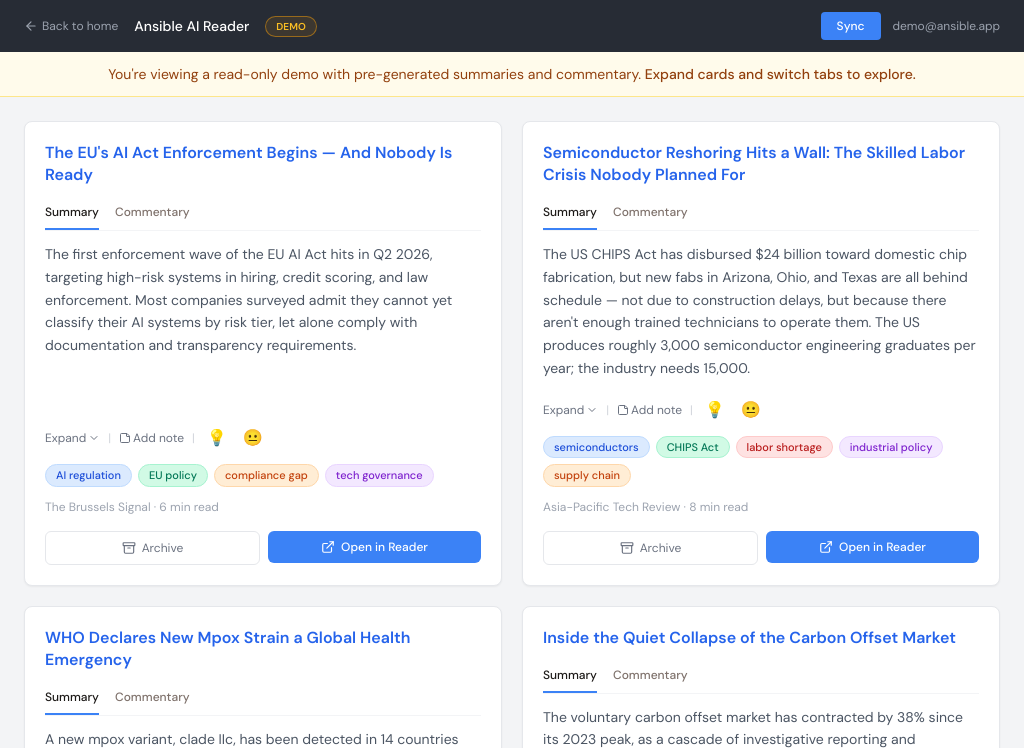
Test case: DemoPage › Article interactions › tracks tab switches, collapses on switch, and shows the commentary teaser
The width and height of the screenshot is (1024, 748).
Click the 2nd button "Expand" at [73, 438], box [45,430,100,446]
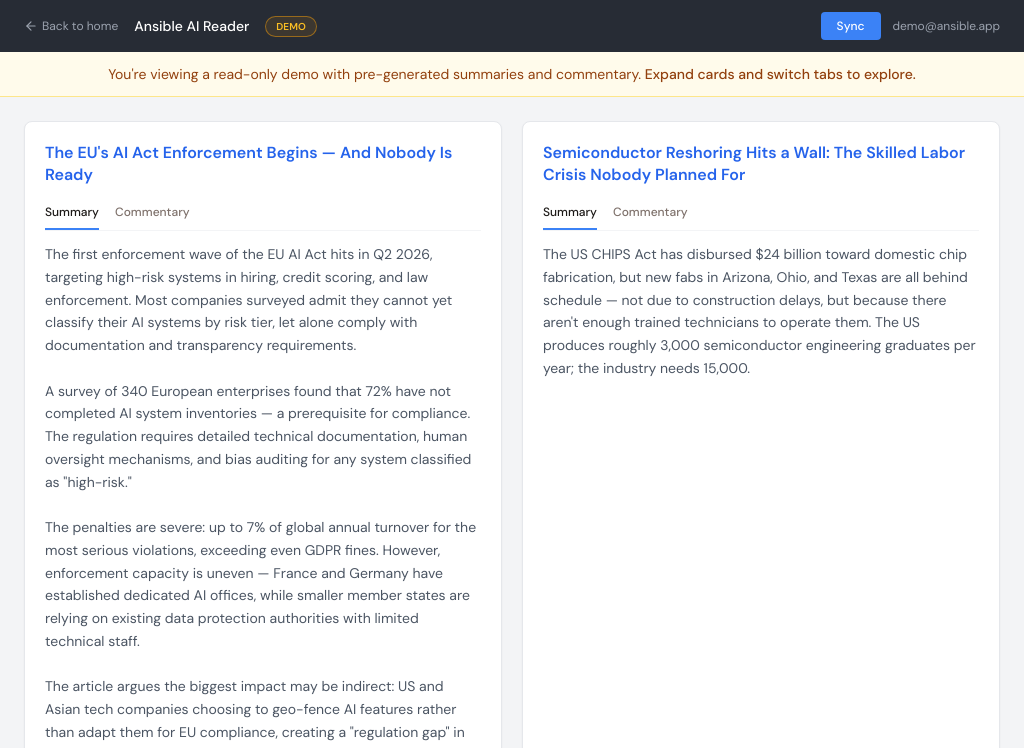
Click the 1st tab "Commentary" at [152, 214], box [115,198,190,230]
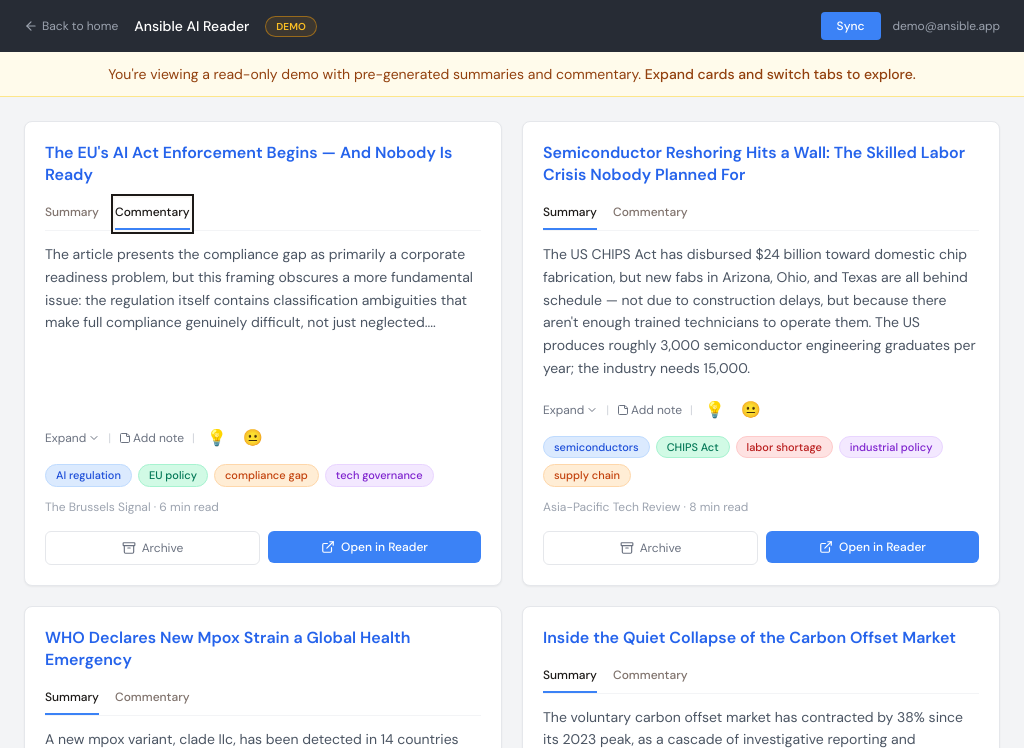
Expected: the text "..." is shown, [45,245,473,331]
Click the 2nd button "Expand" at [73, 438], box [45,430,100,446]
(page scrolled)
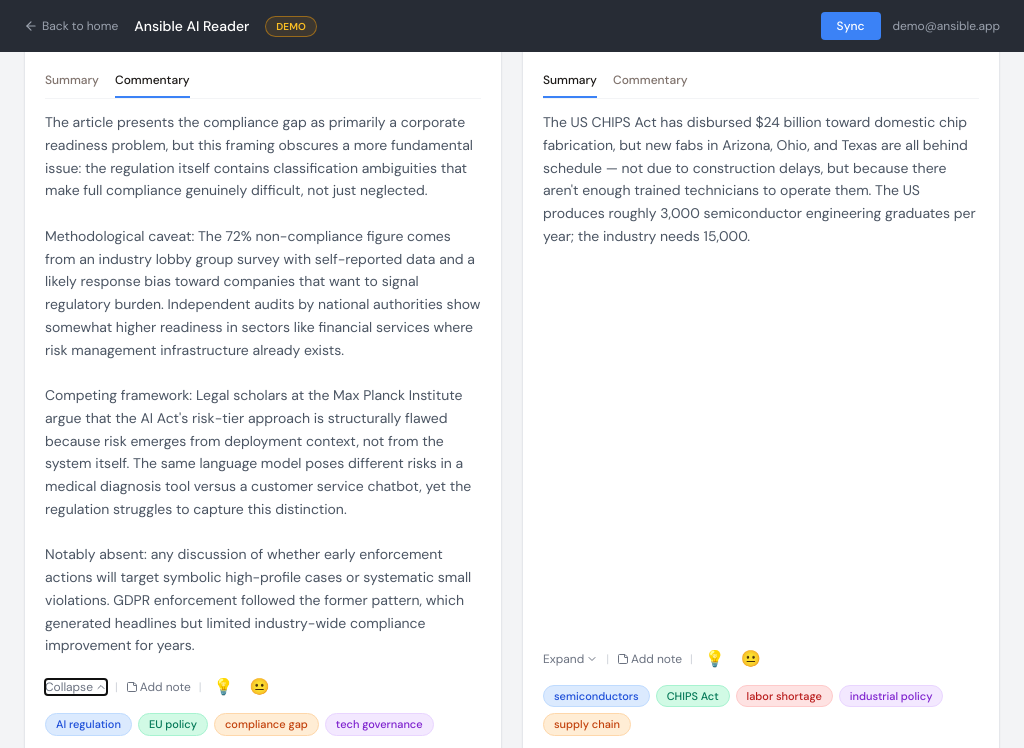
Expected: the text "Methodological caveat" is shown, [45,113,480,654]
